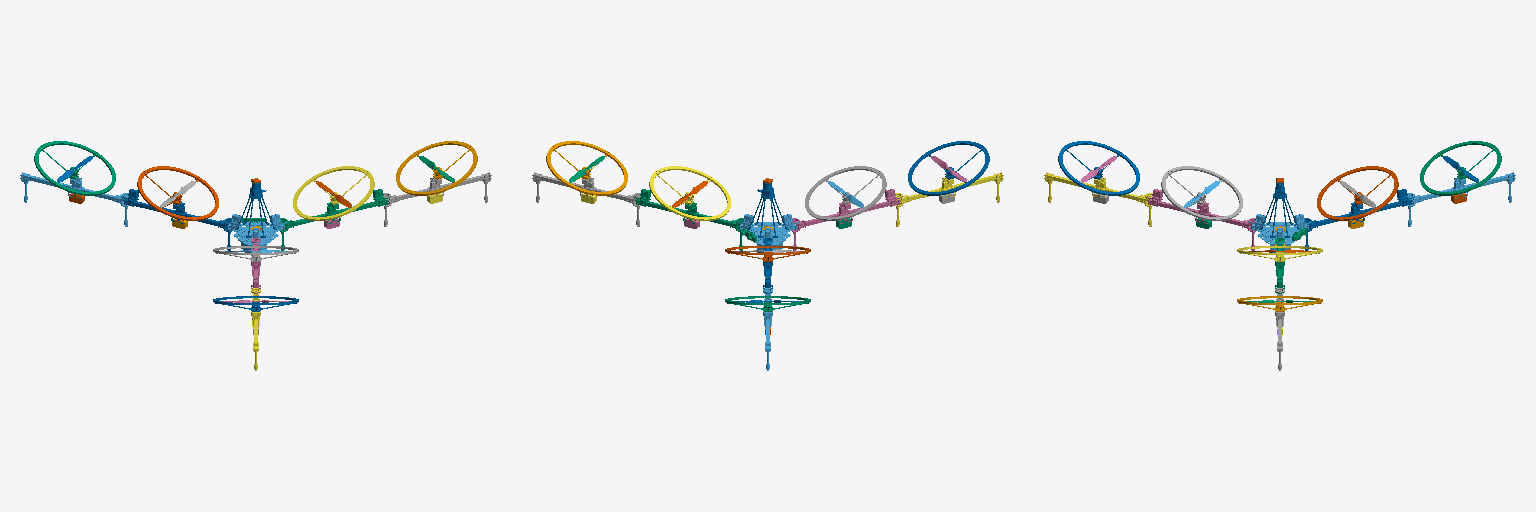
--- What the picture shows (computed from the rendered views, not written in the file) ---
Views: 3 orthographic renders of the robot side by side, from view 1: azimuth 30°, elevation 25°; view 2: azimuth 150°, elevation 25°; view 3: azimuth 270°, elevation 25°.
Model hydrus_xi with 38 links and 37 joints (6 revolute, 12 continuous, 19 fixed), rooted at root, posed every joint at zero.
Links seen in each view (by area): view 1: gimbal_link3, gimbal_link2, center_link, gimbal_link1, gimbal_link4, link1, link3, link4, link2, gimbal_link6, gimbal_link5; view 2: gimbal_link1, gimbal_link6, gimbal_link5, gimbal_link2, center_link, link5, link1, link2, link6, gimbal_link4, gimbal_link3; view 3: gimbal_link5, gimbal_link4, gimbal_link3, gimbal_link6, center_link, link5, link3, link6, link4, gimbal_link2, gimbal_link1.
Link boxes in pixels (bbox=[...]): gimbal_link3: bbox=[137, 166, 218, 220]; gimbal_link2: bbox=[396, 141, 477, 195]; center_link: bbox=[224, 214, 287, 243]; gimbal_link1: bbox=[293, 166, 374, 220]; gimbal_link4: bbox=[34, 141, 115, 195]; link1: bbox=[280, 189, 390, 250]; link3: bbox=[121, 189, 231, 250]; link4: bbox=[20, 172, 128, 226]; link2: bbox=[383, 172, 491, 226]; gimbal_link6: bbox=[213, 296, 298, 311]; gimbal_link5: bbox=[213, 246, 298, 261]; gimbal_link1: bbox=[649, 166, 730, 220]; gimbal_link6: bbox=[908, 141, 989, 195]; gimbal_link5: bbox=[805, 166, 886, 220]; gimbal_link2: bbox=[546, 141, 627, 195]; center_link: bbox=[736, 214, 799, 243]; link5: bbox=[792, 189, 902, 250]; link1: bbox=[633, 189, 743, 250]; link2: bbox=[532, 172, 640, 226]; link6: bbox=[895, 172, 1003, 226]; gimbal_link4: bbox=[725, 296, 810, 311]; gimbal_link3: bbox=[725, 246, 810, 261]; gimbal_link5: bbox=[1161, 166, 1242, 220]; gimbal_link4: bbox=[1420, 141, 1501, 195]; gimbal_link3: bbox=[1317, 166, 1398, 220]; gimbal_link6: bbox=[1058, 141, 1139, 195]; center_link: bbox=[1248, 214, 1311, 243]; link5: bbox=[1145, 189, 1255, 250]; link3: bbox=[1304, 189, 1414, 250]; link6: bbox=[1044, 172, 1152, 226]; link4: bbox=[1407, 172, 1515, 226]; gimbal_link2: bbox=[1237, 296, 1322, 311]; gimbal_link1: bbox=[1237, 246, 1322, 261].
Bounding box of the posed robot: 2.1 × 2.37 × 0.4399 m (x, y, z).
31 mesh visuals loaded from 13 distinct referenced files (13 binary STL).

robot.urdf — hydrus_xi:
<?xml version="1.0" ?>
<robot name="hydrus_xi">
  <baselink name="fc"/>
  <thrust_link name="thrust"/>
  <m_f_rate value="-0.0182"/>
    #### dummy root link for KDL ####
  <link name="root">
    <inertial>
      <origin rpy="0 0 0" xyz="0 0 0"/>
      <mass value="0.00001"/>
      <inertia ixx="0.000001" ixy="0.0" ixz="0.0" iyy="0.000001" iyz="0.0" izz="0.000001"/>
    </inertial>
  </link>
  <joint name="root_joint" type="fixed">
    <parent link="root"/>
    <child link="center_link"/>
    <origin rpy="0 0 0" xyz="0 0 0"/>
    <axis xyz="0 0 1"/>
  </joint>
    #### link ####
  <link name="center_link">
    <inertial>
      <origin rpy="0 0 0" xyz="-0.000001 0.000000 0.031426"/>
      <mass value="0.970304"/>
      <inertia ixx="0.011445" ixy="-0.000000" ixz="-0.000000" iyy="0.011444" iyz="0.000000" izz="0.021712"/>
    </inertial>
    <visual>
      <origin rpy="0 0 0" xyz="0 0 0"/>
      <geometry>
        <mesh filename="center_link.stl"/>
      </geometry>
    </visual>
    <collision name="center_link">
      <origin rpy="0 0 0" xyz="0 0 0"/>
      <geometry>
        <mesh filename="center_link.stl"/>
      </geometry>
    </collision>
  </link>
  <gazebo reference="center_link">
    <dampingFactor>0.00</dampingFactor>
  </gazebo>
    #### joints ####
    #### link joint ####
  <joint name="joint1" type="revolute">
    <limit effort="6.6" lower="-1.57" upper="1.57" velocity="3.0"/>
    <parent link="center_link"/>
    <child link="link1"/>
    <origin rpy="0 0 0" xyz="0.1555 0.0 0.015"/>
    <axis xyz="0 0 1"/>
    <dynamics damping="0.8" friction="0.0"/>
  </joint>
  <joint name="joint3" type="revolute">
    <limit effort="6.6" lower="-1.57" upper="1.57" velocity="3.0"/>
    <parent link="center_link"/>
    <child link="link3"/>
    <origin rpy="0 0 2.0943951023931953" xyz="-0.07775 0.13467 0.015"/>
    <axis xyz="0 0 1"/>
    <dynamics damping="0.8" friction="0.0"/>
  </joint>
  <joint name="joint5" type="revolute">
    <limit effort="6.6" lower="-1.57" upper="1.57" velocity="3.0"/>
    <parent link="center_link"/>
    <child link="link5"/>
    <origin rpy="0 0 4.1887902047863905" xyz="-0.07775 -0.13467 0.015"/>
    <axis xyz="0 0 1"/>
    <dynamics damping="0.8" friction="0.0"/>
  </joint>
    #### hardware interface ####
  <gazebo reference="linkcenter_link">
    <mu1>0.1</mu1>
    <mu2>0.1</mu2>
  </gazebo>
    #### link ####
  <link name="link1">
    <inertial>
      <origin rpy="0 0 0" xyz="0.313051 0.000071 0.011024"/>
      <mass value="0.535052"/>
      <inertia ixx="0.000808" ixy="0.000030" ixz="0.005073" iyy="0.014148" iyz="0.000002" izz="0.013428"/>
    </inertial>
    <visual>
      <origin rpy="0 0 3.141592653589793" xyz="0.6 0 0"/>
      <geometry>
        <mesh filename="middle_link.stl"/>
      </geometry>
    </visual>
    <collision name="link1">
      <origin rpy="0 0 3.141592653589793" xyz="0.6 0 0"/>
      <geometry>
        <mesh filename="middle_link.stl"/>
      </geometry>
    </collision>
  </link>
    #### link1 ####
  <gazebo reference="link1">
    <dampingFactor>0.00</dampingFactor>
  </gazebo>
    #### gimbal link ####
  <link name="gimbal_link1">
    <inertial>
      <origin rpy="0 0 0" xyz="-0.010664 0.000000 0.049923"/>
      <mass value="0.237140"/>
      <inertia ixx="0.004029" ixy="-0.000000" ixz="-0.001310" iyy="0.003369" iyz="0.000000" izz="0.006515"/>
    </inertial>
    <visual>
      <origin rpy="0 0 0" xyz="0 0 0"/>
      <geometry>
        <mesh filename="propeller_link.stl"/>
      </geometry>
    </visual>
    <collision name="gimbal_link1">
      <origin rpy="0 0 0" xyz="0 0 0"/>
      <geometry>
        <mesh filename="propeller_link.stl"/>
      </geometry>
    </collision>
  </link>
  <gazebo reference="gimbal_link1">
    <dampingFactor>0.00</dampingFactor>
  </gazebo>
    #### rotor parent link (virtual) ####
  <link name="rotor_parent1">
    <inertial>
      <origin rpy="0 0 0" xyz="0 0 0"/>
      <mass value="0.00001"/>
      <inertia ixx="0.000001" ixy="0.0" ixz="0.0" iyy="0.000001" iyz="0.0" izz="0.000001"/>
    </inertial>
  </link>
    #### thrust link (virtual) ####
  <link name="thrust1">
    <inertial>
      <origin rpy="0 0 0" xyz="0 0 0"/>
      <mass value="0.02"/>
      <inertia ixx="1.5841999999999998e-06" ixy="0.0" ixz="0.0" iyy="1.5841999999999998e-06" iyz="0.0" izz="3.1683999999999996e-06"/>
    </inertial>
    <visual>
      <origin rpy="0 0 0" xyz="0 0 0"/>
      <geometry>
        <mesh filename="T-motor-CF-14inch-CCW.stl"/>
      </geometry>
    </visual>
    <collision name="thrust1">
      <origin rpy="0 0 0" xyz="0 0 0"/>
      <geometry>
        <mesh filename="T-motor-CF-14inch-CCW.stl"/>
      </geometry>
    </collision>
  </link>
  <gazebo reference="thrust1">
    <dampingFactor>0.00</dampingFactor>
  </gazebo>
    #### joints ####
    #### link joint ####
  <joint name="joint2" type="revolute">
    <limit effort="6.6" lower="-1.5707963267948966" upper="1.5707963267948966" velocity="3.0"/>
    <parent link="link1"/>
    <child link="link2"/>
    <origin rpy="0 0 0" xyz="0.6 0 0"/>
    <axis xyz="0 0 1"/>
    <dynamics damping="0.8" friction="0.0"/>
  </joint>
    #### gimbal joint ####
  <joint name="gimbal1" type="continuous">
    <limit effort="3.1" lower="-18.84955592153876" upper="18.84955592153876" velocity="20.0"/>
    <parent link="link1"/>
    <child link="gimbal_link1"/>
    <origin rpy="0 0 3.141592653589793" xyz="0.2984 0 0.04867"/>
    <axis xyz="0 0 1"/>
    <dynamics damping="0.8" friction="0.0"/>
  </joint>
    #### rotor parent link joint (virtual) ####
  <joint name="rotor_parent_link_joint1" type="fixed">
    <parent link="gimbal_link1"/>
    <child link="rotor_parent1"/>
    <origin rpy="0 0.34906585039 0" xyz="0 0 0.06041"/>
    <axis xyz="0 0 1"/>
  </joint>
    #### rotor joint (virtual) ####
  <joint name="rotor1" type="continuous">
    <limit effort="100.0" lower="1" upper="35.5" velocity="0.5"/>
    <parent link="rotor_parent1"/>
    <child link="thrust1"/>
    <origin rpy="0 0 0" xyz="0 0 0"/>
    <axis xyz="0 0 1"/>
  </joint>
    #### battery ####
  <joint name="link12bat1" type="fixed">
    <parent link="link1"/>
    <child link="bat1"/>
    <origin rpy="0 0 1.5707963267948966" xyz="0.2867 0.0 -0.048"/>
  </joint>
  <link name="bat1">
    <inertial>
      <origin rpy="0 0 0" xyz="0 0 0"/>
      <mass value="0.193"/>
      <inertia ixx="0.00001" ixy="0.0" ixz="0.0" iyy="0.00001" iyz="0.0" izz="0.00002"/>
    </inertial>
    <visual>
      <geometry>
        <mesh filename="battery.stl"/>
      </geometry>
    </visual>
    <collision name="bat1">
      <geometry>
        <mesh filename="battery.stl"/>
      </geometry>
    </collision>
  </link>
    #### hardware interface ####
  <gazebo reference="link1">
    <mu1>0.1</mu1>
    <mu2>0.1</mu2>
  </gazebo>
    #### link ####
  <link name="link2">
    <inertial>
      <origin rpy="0 0 0" xyz="0.272827 0.000033 -0.006011"/>
      <mass value="0.455151"/>
      <inertia ixx="0.001020" ixy="0.000009" ixz="-0.002418" iyy="0.009477" iyz="0.000000" izz="0.008530"/>
    </inertial>
    <visual>
      <origin rpy="0 0 3.141592653589793" xyz="0.6 0 0"/>
      <geometry>
        <mesh filename="end_link1.stl"/>
      </geometry>
    </visual>
    <collision name="link2">
      <origin rpy="0 0 3.141592653589793" xyz="0.6 0 0"/>
      <geometry>
        <mesh filename="end_link1.stl"/>
      </geometry>
    </collision>
  </link>
    #### link2 ####
  <gazebo reference="link2">
    <dampingFactor>0.00</dampingFactor>
  </gazebo>
    #### gimbal link ####
  <link name="gimbal_link2">
    <inertial>
      <origin rpy="0 0 0" xyz="-0.010664 0.000000 0.049923"/>
      <mass value="0.237140"/>
      <inertia ixx="0.004029" ixy="-0.000000" ixz="-0.001310" iyy="0.003369" iyz="0.000000" izz="0.006515"/>
    </inertial>
    <visual>
      <origin rpy="0 0 0" xyz="0 0 0"/>
      <geometry>
        <mesh filename="propeller_link.stl"/>
      </geometry>
    </visual>
    <collision name="gimbal_link2">
      <origin rpy="0 0 0" xyz="0 0 0"/>
      <geometry>
        <mesh filename="propeller_link.stl"/>
      </geometry>
    </collision>
  </link>
  <gazebo reference="gimbal_link2">
    <dampingFactor>0.00</dampingFactor>
  </gazebo>
    #### rotor parent link (virtual) ####
  <link name="rotor_parent2">
    <inertial>
      <origin rpy="0 0 0" xyz="0 0 0"/>
      <mass value="0.00001"/>
      <inertia ixx="0.000001" ixy="0.0" ixz="0.0" iyy="0.000001" iyz="0.0" izz="0.000001"/>
    </inertial>
  </link>
    #### thrust link (virtual) ####
  <link name="thrust2">
    <inertial>
      <origin rpy="0 0 0" xyz="0 0 0"/>
      <mass value="0.02"/>
      <inertia ixx="1.5841999999999998e-06" ixy="0.0" ixz="0.0" iyy="1.5841999999999998e-06" iyz="0.0" izz="3.1683999999999996e-06"/>
    </inertial>
    <visual>
      <origin rpy="0 0 0" xyz="0 0 0"/>
      <geometry>
        <mesh filename="T-motor-CF-14inch-CW.stl"/>
      </geometry>
    </visual>
    <collision name="thrust2">
      <origin rpy="0 0 0" xyz="0 0 0"/>
      <geometry>
        <mesh filename="T-motor-CF-14inch-CW.stl"/>
      </geometry>
    </collision>
  </link>
  <gazebo reference="thrust2">
    <dampingFactor>0.00</dampingFactor>
  </gazebo>
    #### joints ####
    #### link joint ####
    #### gimbal joint ####
  <joint name="gimbal2" type="continuous">
    <limit effort="3.1" lower="-18.84955592153876" upper="18.84955592153876" velocity="20.0"/>
    <parent link="link2"/>
    <child link="gimbal_link2"/>
    <origin rpy="0 0 3.141592653589793" xyz="0.2984 0 0.04867"/>
    <axis xyz="0 0 1"/>
    <dynamics damping="0.8" friction="0.0"/>
  </joint>
    #### rotor parent link joint (virtual) ####
  <joint name="rotor_parent_link_joint2" type="fixed">
    <parent link="gimbal_link2"/>
    <child link="rotor_parent2"/>
    <origin rpy="0 0.34906585039 0" xyz="0 0 0.06041"/>
    <axis xyz="0 0 -1"/>
  </joint>
    #### rotor joint (virtual) ####
  <joint name="rotor2" type="continuous">
    <limit effort="100.0" lower="1" upper="35.5" velocity="0.5"/>
    <parent link="rotor_parent2"/>
    <child link="thrust2"/>
    <origin rpy="0 0 0" xyz="0 0 0"/>
    <axis xyz="0 0 -1"/>
  </joint>
    #### battery ####
  <joint name="link22bat2" type="fixed">
    <parent link="link2"/>
    <child link="bat2"/>
    <origin rpy="0 0 1.5707963267948966" xyz="0.2867 0.0 -0.048"/>
  </joint>
  <link name="bat2">
    <inertial>
      <origin rpy="0 0 0" xyz="0 0 0"/>
      <mass value="0.193"/>
      <inertia ixx="0.00001" ixy="0.0" ixz="0.0" iyy="0.00001" iyz="0.0" izz="0.00002"/>
    </inertial>
    <visual>
      <geometry>
        <mesh filename="battery.stl"/>
      </geometry>
    </visual>
    <collision name="bat2">
      <geometry>
        <mesh filename="battery.stl"/>
      </geometry>
    </collision>
  </link>
    #### hardware interface ####
  <gazebo reference="link2">
    <mu1>0.1</mu1>
    <mu2>0.1</mu2>
  </gazebo>
    #### link ####
  <link name="link3">
    <inertial>
      <origin rpy="0 0 0" xyz="0.313051 0.000071 0.011024"/>
      <mass value="0.535052"/>
      <inertia ixx="0.000808" ixy="0.000030" ixz="0.005073" iyy="0.014148" iyz="0.000002" izz="0.013428"/>
    </inertial>
    <visual>
      <origin rpy="0 0 3.141592653589793" xyz="0.6 0 0"/>
      <geometry>
        <mesh filename="middle_link.stl"/>
      </geometry>
    </visual>
    <collision name="link3">
      <origin rpy="0 0 3.141592653589793" xyz="0.6 0 0"/>
      <geometry>
        <mesh filename="middle_link.stl"/>
      </geometry>
    </collision>
  </link>
    #### link3 ####
  <gazebo reference="link3">
    <dampingFactor>0.00</dampingFactor>
  </gazebo>
    #### gimbal link ####
  <link name="gimbal_link3">
    <inertial>
      <origin rpy="0 0 0" xyz="-0.010664 0.000000 0.049923"/>
      <mass value="0.237140"/>
      <inertia ixx="0.004029" ixy="-0.000000" ixz="-0.001310" iyy="0.003369" iyz="0.000000" izz="0.006515"/>
    </inertial>
    <visual>
      <origin rpy="0 0 0" xyz="0 0 0"/>
      <geometry>
        <mesh filename="propeller_link.stl"/>
      </geometry>
    </visual>
    <collision name="gimbal_link3">
      <origin rpy="0 0 0" xyz="0 0 0"/>
      <geometry>
        <mesh filename="propeller_link.stl"/>
      </geometry>
    </collision>
  </link>
  <gazebo reference="gimbal_link3">
    <dampingFactor>0.00</dampingFactor>
  </gazebo>
    #### rotor parent link (virtual) ####
  <link name="rotor_parent3">
    <inertial>
      <origin rpy="0 0 0" xyz="0 0 0"/>
      <mass value="0.00001"/>
      <inertia ixx="0.000001" ixy="0.0" ixz="0.0" iyy="0.000001" iyz="0.0" izz="0.000001"/>
    </inertial>
  </link>
    #### thrust link (virtual) ####
  <link name="thrust3">
    <inertial>
      <origin rpy="0 0 0" xyz="0 0 0"/>
      <mass value="0.02"/>
      <inertia ixx="1.5841999999999998e-06" ixy="0.0" ixz="0.0" iyy="1.5841999999999998e-06" iyz="0.0" izz="3.1683999999999996e-06"/>
    </inertial>
    <visual>
      <origin rpy="0 0 0" xyz="0 0 0"/>
      <geometry>
        <mesh filename="T-motor-CF-14inch-CCW.stl"/>
      </geometry>
    </visual>
    <collision name="thrust3">
      <origin rpy="0 0 0" xyz="0 0 0"/>
      <geometry>
        <mesh filename="T-motor-CF-14inch-CCW.stl"/>
      </geometry>
    </collision>
  </link>
  <gazebo reference="thrust3">
    <dampingFactor>0.00</dampingFactor>
  </gazebo>
    #### joints ####
    #### link joint ####
  <joint name="joint4" type="revolute">
    <limit effort="6.6" lower="-1.5707963267948966" upper="1.5707963267948966" velocity="3.0"/>
    <parent link="link3"/>
    <child link="link4"/>
    <origin rpy="0 0 0" xyz="0.6 0 0"/>
    <axis xyz="0 0 1"/>
    <dynamics damping="0.8" friction="0.0"/>
  </joint>
    #### gimbal joint ####
  <joint name="gimbal3" type="continuous">
    <limit effort="3.1" lower="-18.84955592153876" upper="18.84955592153876" velocity="20.0"/>
    <parent link="link3"/>
    <child link="gimbal_link3"/>
    <origin rpy="0 0 3.141592653589793" xyz="0.2984 0 0.04867"/>
    <axis xyz="0 0 1"/>
    <dynamics damping="0.8" friction="0.0"/>
  </joint>
    #### rotor parent link joint (virtual) ####
  <joint name="rotor_parent_link_joint3" type="fixed">
    <parent link="gimbal_link3"/>
    <child link="rotor_parent3"/>
    <origin rpy="0 0.34906585039 0" xyz="0 0 0.06041"/>
    <axis xyz="0 0 1"/>
  </joint>
    #### rotor joint (virtual) ####
  <joint name="rotor3" type="continuous">
    <limit effort="100.0" lower="1" upper="35.5" velocity="0.5"/>
    <parent link="rotor_parent3"/>
    <child link="thrust3"/>
    <origin rpy="0 0 0" xyz="0 0 0"/>
    <axis xyz="0 0 1"/>
  </joint>
    #### battery ####
  <joint name="link32bat3" type="fixed">
    <parent link="link3"/>
    <child link="bat3"/>
    <origin rpy="0 0 1.5707963267948966" xyz="0.2867 0.0 -0.048"/>
  </joint>
  <link name="bat3">
    <inertial>
      <origin rpy="0 0 0" xyz="0 0 0"/>
      <mass value="0.193"/>
      <inertia ixx="0.00001" ixy="0.0" ixz="0.0" iyy="0.00001" iyz="0.0" izz="0.00002"/>
    </inertial>
    <visual>
      <geometry>
        <mesh filename="battery.stl"/>
      </geometry>
    </visual>
    <collision name="bat3">
      <geometry>
        <mesh filename="battery.stl"/>
      </geometry>
    </collision>
  </link>
    #### hardware interface ####
  <gazebo reference="link3">
    <mu1>0.1</mu1>
    <mu2>0.1</mu2>
  </gazebo>
    #### link ####
  <link name="link4">
    <inertial>
      <origin rpy="0 0 0" xyz="0.272827 0.000033 -0.006011"/>
      <mass value="0.455151"/>
      <inertia ixx="0.001020" ixy="0.000009" ixz="-0.002418" iyy="0.009477" iyz="0.000000" izz="0.008530"/>
    </inertial>
    <visual>
      <origin rpy="0 0 3.141592653589793" xyz="0.6 0 0"/>
      <geometry>
        <mesh filename="end_link1.stl"/>
      </geometry>
    </visual>
    <collision name="link4">
      <origin rpy="0 0 3.141592653589793" xyz="0.6 0 0"/>
      <geometry>
        <mesh filename="end_link1.stl"/>
      </geometry>
    </collision>
  </link>
    #### link4 ####
  <gazebo reference="link4">
    <dampingFactor>0.00</dampingFactor>
  </gazebo>
    #### gimbal link ####
  <link name="gimbal_link4">
    <inertial>
      <origin rpy="0 0 0" xyz="-0.010664 0.000000 0.049923"/>
      <mass value="0.237140"/>
      <inertia ixx="0.004029" ixy="-0.000000" ixz="-0.001310" iyy="0.003369" iyz="0.000000" izz="0.006515"/>
    </inertial>
    <visual>
      <origin rpy="0 0 0" xyz="0 0 0"/>
      <geometry>
        <mesh filename="propeller_link.stl"/>
      </geometry>
    </visual>
    <collision name="gimbal_link4">
      <origin rpy="0 0 0" xyz="0 0 0"/>
      <geometry>
        <mesh filename="propeller_link.stl"/>
      </geometry>
    </collision>
  </link>
  <gazebo reference="gimbal_link4">
    <dampingFactor>0.00</dampingFactor>
  </gazebo>
    #### rotor parent link (virtual) ####
  <link name="rotor_parent4">
    <inertial>
      <origin rpy="0 0 0" xyz="0 0 0"/>
      <mass value="0.00001"/>
      <inertia ixx="0.000001" ixy="0.0" ixz="0.0" iyy="0.000001" iyz="0.0" izz="0.000001"/>
    </inertial>
  </link>
    #### thrust link (virtual) ####
  <link name="thrust4">
    <inertial>
      <origin rpy="0 0 0" xyz="0 0 0"/>
      <mass value="0.02"/>
      <inertia ixx="1.5841999999999998e-06" ixy="0.0" ixz="0.0" iyy="1.5841999999999998e-06" iyz="0.0" izz="3.1683999999999996e-06"/>
    </inertial>
    <visual>
      <origin rpy="0 0 0" xyz="0 0 0"/>
      <geometry>
        <mesh filename="T-motor-CF-14inch-CW.stl"/>
      </geometry>
    </visual>
    <collision name="thrust4">
      <origin rpy="0 0 0" xyz="0 0 0"/>
      <geometry>
        <mesh filename="T-motor-CF-14inch-CW.stl"/>
      </geometry>
    </collision>
  </link>
  <gazebo reference="thrust4">
    <dampingFactor>0.00</dampingFactor>
  </gazebo>
    #### joints ####
    #### link joint ####
    #### gimbal joint ####
  <joint name="gimbal4" type="continuous">
    <limit effort="3.1" lower="-18.84955592153876" upper="18.84955592153876" velocity="20.0"/>
    <parent link="link4"/>
    <child link="gimbal_link4"/>
    <origin rpy="0 0 3.141592653589793" xyz="0.2984 0 0.04867"/>
    <axis xyz="0 0 1"/>
    <dynamics damping="0.8" friction="0.0"/>
  </joint>
    #### rotor parent link joint (virtual) ####
  <joint name="rotor_parent_link_joint4" type="fixed">
    <parent link="gimbal_link4"/>
    <child link="rotor_parent4"/>
    <origin rpy="0 0.34906585039 0" xyz="0 0 0.06041"/>
    <axis xyz="0 0 -1"/>
  </joint>
    #### rotor joint (virtual) ####
  <joint name="rotor4" type="continuous">
    <limit effort="100.0" lower="1" upper="35.5" velocity="0.5"/>
    <parent link="rotor_parent4"/>
    <child link="thrust4"/>
    <origin rpy="0 0 0" xyz="0 0 0"/>
    <axis xyz="0 0 -1"/>
  </joint>
    #### battery ####
  <joint name="link42bat4" type="fixed">
    <parent link="link4"/>
    <child link="bat4"/>
    <origin rpy="0 0 1.5707963267948966" xyz="0.2867 0.0 -0.048"/>
  </joint>
  <link name="bat4">
    <inertial>
      <origin rpy="0 0 0" xyz="0 0 0"/>
      <mass value="0.193"/>
      <inertia ixx="0.00001" ixy="0.0" ixz="0.0" iyy="0.00001" iyz="0.0" izz="0.00002"/>
    </inertial>
    <visual>
      <geometry>
        <mesh filename="battery.stl"/>
      </geometry>
    </visual>
    <collision name="bat4">
      <geometry>
        <mesh filename="battery.stl"/>
      </geometry>
    </collision>
  </link>
    #### hardware interface ####
  <gazebo reference="link4">
    <mu1>0.1</mu1>
    <mu2>0.1</mu2>
  </gazebo>
    #### link ####
  <link name="link5">
    <inertial>
      <origin rpy="0 0 0" xyz="0.313051 0.000071 0.011024"/>
      <mass value="0.535052"/>
      <inertia ixx="0.000808" ixy="0.000030" ixz="0.005073" iyy="0.014148" iyz="0.000002" izz="0.013428"/>
    </inertial>
    <visual>
      <origin rpy="0 0 3.141592653589793" xyz="0.6 0 0"/>
      <geometry>
        <mesh filename="middle_link.stl"/>
      </geometry>
    </visual>
    <collision name="link5">
      <origin rpy="0 0 3.141592653589793" xyz="0.6 0 0"/>
      <geometry>
        <mesh filename="middle_link.stl"/>
      </geometry>
    </collision>
  </link>
    #### link5 ####
  <gazebo reference="link5">
    <dampingFactor>0.00</dampingFactor>
  </gazebo>
    #### gimbal link ####
  <link name="gimbal_link5">
    <inertial>
      <origin rpy="0 0 0" xyz="-0.010664 0.000000 0.049923"/>
      <mass value="0.237140"/>
      <inertia ixx="0.004029" ixy="-0.000000" ixz="-0.001310" iyy="0.003369" iyz="0.000000" izz="0.006515"/>
    </inertial>
    <visual>
      <origin rpy="0 0 0" xyz="0 0 0"/>
      <geometry>
        <mesh filename="propeller_link.stl"/>
      </geometry>
    </visual>
    <collision name="gimbal_link5">
      <origin rpy="0 0 0" xyz="0 0 0"/>
      <geometry>
        <mesh filename="propeller_link.stl"/>
      </geometry>
    </collision>
  </link>
  <gazebo reference="gimbal_link5">
    <dampingFactor>0.00</dampingFactor>
  </gazebo>
    #### rotor parent link (virtual) ####
  <link name="rotor_parent5">
    <inertial>
      <origin rpy="0 0 0" xyz="0 0 0"/>
      <mass value="0.00001"/>
      <inertia ixx="0.000001" ixy="0.0" ixz="0.0" iyy="0.000001" iyz="0.0" izz="0.000001"/>
    </inertial>
  </link>
    #### thrust link (virtual) ####
  <link name="thrust5">
    <inertial>
      <origin rpy="0 0 0" xyz="0 0 0"/>
      <mass value="0.02"/>
      <inertia ixx="1.5841999999999998e-06" ixy="0.0" ixz="0.0" iyy="1.5841999999999998e-06" iyz="0.0" izz="3.1683999999999996e-06"/>
    </inertial>
    <visual>
      <origin rpy="0 0 0" xyz="0 0 0"/>
      <geometry>
        <mesh filename="T-motor-CF-14inch-CCW.stl"/>
      </geometry>
    </visual>
    <collision name="thrust5">
      <origin rpy="0 0 0" xyz="0 0 0"/>
      <geometry>
        <mesh filename="T-motor-CF-14inch-CCW.stl"/>
      </geometry>
    </collision>
  </link>
  <gazebo reference="thrust5">
    <dampingFactor>0.00</dampingFactor>
  </gazebo>
    #### joints ####
    #### link joint ####
  <joint name="joint6" type="revolute">
    <limit effort="6.6" lower="-1.5707963267948966" upper="1.5707963267948966" velocity="3.0"/>
    <parent link="link5"/>
    <child link="link6"/>
    <origin rpy="0 0 0" xyz="0.6 0 0"/>
    <axis xyz="0 0 1"/>
    <dynamics damping="0.8" friction="0.0"/>
  </joint>
    #### gimbal joint ####
  <joint name="gimbal5" type="continuous">
    <limit effort="3.1" lower="-18.84955592153876" upper="18.84955592153876" velocity="20.0"/>
    <parent link="link5"/>
    <child link="gimbal_link5"/>
    <origin rpy="0 0 3.141592653589793" xyz="0.2984 0 0.04867"/>
    <axis xyz="0 0 1"/>
    <dynamics damping="0.8" friction="0.0"/>
  </joint>
    #### rotor parent link joint (virtual) ####
  <joint name="rotor_parent_link_joint5" type="fixed">
    <parent link="gimbal_link5"/>
    <child link="rotor_parent5"/>
    <origin rpy="0 0.34906585039 0" xyz="0 0 0.06041"/>
    <axis xyz="0 0 1"/>
  </joint>
    #### rotor joint (virtual) ####
  <joint name="rotor5" type="continuous">
    <limit effort="100.0" lower="1" upper="35.5" velocity="0.5"/>
    <parent link="rotor_parent5"/>
    <child link="thrust5"/>
    <origin rpy="0 0 0" xyz="0 0 0"/>
    <axis xyz="0 0 1"/>
  </joint>
    #### battery ####
  <joint name="link52bat5" type="fixed">
    <parent link="link5"/>
    <child link="bat5"/>
    <origin rpy="0 0 1.5707963267948966" xyz="0.2867 0.0 -0.048"/>
  </joint>
  <link name="bat5">
    <inertial>
      <origin rpy="0 0 0" xyz="0 0 0"/>
      <mass value="0.193"/>
      <inertia ixx="0.00001" ixy="0.0" ixz="0.0" iyy="0.00001" iyz="0.0" izz="0.00002"/>
    </inertial>
    <visual>
      <geometry>
        <mesh filename="battery.stl"/>
      </geometry>
    </visual>
    <collision name="bat5">
      <geometry>
        <mesh filename="battery.stl"/>
      </geometry>
    </collision>
  </link>
    #### hardware interface ####
  <gazebo reference="link5">
    <mu1>0.1</mu1>
    <mu2>0.1</mu2>
  </gazebo>
    #### link ####
  <link name="link6">
    <inertial>
      <origin rpy="0 0 0" xyz="0.272827 0.000033 -0.006011"/>
      <mass value="0.455151"/>
      <inertia ixx="0.001020" ixy="0.000009" ixz="-0.002418" iyy="0.009477" iyz="0.000000" izz="0.008530"/>
    </inertial>
    <visual>
      <origin rpy="0 0 3.141592653589793" xyz="0.6 0 0"/>
      <geometry>
        <mesh filename="end_link1.stl"/>
      </geometry>
    </visual>
    <collision name="link6">
      <origin rpy="0 0 3.141592653589793" xyz="0.6 0 0"/>
      <geometry>
        <mesh filename="end_link1.stl"/>
      </geometry>
    </collision>
  </link>
    #### link6 ####
  <gazebo reference="link6">
    <dampingFactor>0.00</dampingFactor>
  </gazebo>
    #### gimbal link ####
  <link name="gimbal_link6">
    <inertial>
      <origin rpy="0 0 0" xyz="-0.010664 0.000000 0.049923"/>
      <mass value="0.237140"/>
      <inertia ixx="0.004029" ixy="-0.000000" ixz="-0.001310" iyy="0.003369" iyz="0.000000" izz="0.006515"/>
    </inertial>
    <visual>
      <origin rpy="0 0 0" xyz="0 0 0"/>
      <geometry>
        <mesh filename="propeller_link.stl"/>
      </geometry>
    </visual>
    <collision name="gimbal_link6">
      <origin rpy="0 0 0" xyz="0 0 0"/>
      <geometry>
        <mesh filename="propeller_link.stl"/>
      </geometry>
    </collision>
  </link>
  <gazebo reference="gimbal_link6">
    <dampingFactor>0.00</dampingFactor>
  </gazebo>
    #### rotor parent link (virtual) ####
  <link name="rotor_parent6">
    <inertial>
      <origin rpy="0 0 0" xyz="0 0 0"/>
      <mass value="0.00001"/>
      <inertia ixx="0.000001" ixy="0.0" ixz="0.0" iyy="0.000001" iyz="0.0" izz="0.000001"/>
    </inertial>
  </link>
    #### thrust link (virtual) ####
  <link name="thrust6">
    <inertial>
      <origin rpy="0 0 0" xyz="0 0 0"/>
      <mass value="0.02"/>
      <inertia ixx="1.5841999999999998e-06" ixy="0.0" ixz="0.0" iyy="1.5841999999999998e-06" iyz="0.0" izz="3.1683999999999996e-06"/>
    </inertial>
    <visual>
      <origin rpy="0 0 0" xyz="0 0 0"/>
      <geometry>
        <mesh filename="T-motor-CF-14inch-CW.stl"/>
      </geometry>
    </visual>
    <collision name="thrust6">
      <origin rpy="0 0 0" xyz="0 0 0"/>
      <geometry>
        <mesh filename="T-motor-CF-14inch-CW.stl"/>
      </geometry>
    </collision>
  </link>
  <gazebo reference="thrust6">
    <dampingFactor>0.00</dampingFactor>
  </gazebo>
    #### joints ####
    #### link joint ####
    #### gimbal joint ####
  <joint name="gimbal6" type="continuous">
    <limit effort="3.1" lower="-18.84955592153876" upper="18.84955592153876" velocity="20.0"/>
    <parent link="link6"/>
    <child link="gimbal_link6"/>
    <origin rpy="0 0 3.141592653589793" xyz="0.2984 0 0.04867"/>
    <axis xyz="0 0 1"/>
    <dynamics damping="0.8" friction="0.0"/>
  </joint>
    #### rotor parent link joint (virtual) ####
  <joint name="rotor_parent_link_joint6" type="fixed">
    <parent link="gimbal_link6"/>
    <child link="rotor_parent6"/>
    <origin rpy="0 0.34906585039 0" xyz="0 0 0.06041"/>
    <axis xyz="0 0 -1"/>
  </joint>
    #### rotor joint (virtual) ####
  <joint name="rotor6" type="continuous">
    <limit effort="100.0" lower="1" upper="35.5" velocity="0.5"/>
    <parent link="rotor_parent6"/>
    <child link="thrust6"/>
    <origin rpy="0 0 0" xyz="0 0 0"/>
    <axis xyz="0 0 -1"/>
  </joint>
    #### battery ####
  <joint name="link62bat6" type="fixed">
    <parent link="link6"/>
    <child link="bat6"/>
    <origin rpy="0 0 1.5707963267948966" xyz="0.2867 0.0 -0.048"/>
  </joint>
  <link name="bat6">
    <inertial>
      <origin rpy="0 0 0" xyz="0 0 0"/>
      <mass value="0.193"/>
      <inertia ixx="0.00001" ixy="0.0" ixz="0.0" iyy="0.00001" iyz="0.0" izz="0.00002"/>
    </inertial>
    <visual>
      <geometry>
        <mesh filename="battery.stl"/>
      </geometry>
    </visual>
    <collision name="bat6">
      <geometry>
        <mesh filename="battery.stl"/>
      </geometry>
    </collision>
  </link>
    #### hardware interface ####
  <gazebo reference="link6">
    <mu1>0.1</mu1>
    <mu2>0.1</mu2>
  </gazebo>
  #### flight controller ####
  <joint name="center_link2fc" type="fixed">
    <parent link="center_link"/>
    <child link="fc"/>
    <origin rpy="0 0 0" xyz="-0.0129 -0.0044 0.03933"/>
  </joint>
  <link name="fc">
    <inertial>
      <origin rpy="0 0 0" xyz="0.012999 0.004396 -0.004856"/>
      <mass value="0.009434"/>
      <inertia ixx="0.000004" ixy="0.000001" ixz="-0.000001" iyy="0.000004" iyz="-0.000000" izz="0.000008"/>
    </inertial>
    <visual>
      <geometry>
        <mesh filename="fc3.stl"/>
      </geometry>
    </visual>
    <collision name="fc">
      <geometry>
        <mesh filename="fc3.stl"/>
      </geometry>
    </collision>
  </link>
  <joint name="center_link2pc" type="fixed">
    <parent link="center_link"/>
    <child link="pc"/>
    <origin rpy="0 0 0" xyz="-0.01075 0.0005 -0.0775"/>
  </joint>
  <link name="pc">
    <inertial>
      <origin rpy="0 0 0" xyz="-0.000890 -0.000110 0.028700"/>
      <mass value="0.449000"/>
      <inertia ixx="-0.000452" ixy="0.000000" ixz="-0.000014" iyy="-0.000453" iyz="-0.000002" izz="-0.000000"/>
    </inertial>
    <visual>
      <geometry>
        <mesh filename="xavier_2.stl"/>
      </geometry>
    </visual>
    <collision name="pc">
      <geometry>
        <mesh filename="xavier_2.stl"/>
      </geometry>
    </collision>
  </link>
  <joint name="center_link2zed_camera_center" type="fixed">
    <parent link="center_link"/>
    <child link="zed_camera_center"/>
    <origin rpy="0 0 1.0471975511965976" xyz="0.05504 0.09534  0.029"/>
  </joint>
  <link name="zed_camera_center">
    <inertial>
      <origin rpy="0 0 0" xyz="0.000430 0.006110 0.000000"/>
      <mass value="0.090000"/>
      <inertia ixx="0.000117" ixy="0.000000" ixz="0.000000" iyy="0.000010" iyz="0.000000" izz="0.000117"/>
    </inertial>
    <visual>
      <geometry>
        <mesh filename="zed_mini.stl"/>
      </geometry>
    </visual>
    <collision name="zed_camera_center">
      <geometry>
        <mesh filename="zed_mini.stl"/>
      </geometry>
    </collision>
  </link>
  <joint name="center_link2leddarone" type="fixed">
    <parent link="center_link"/>
    <child link="leddarone"/>
    <origin rpy="0 3.141592653589793 -1.5707963267948966" xyz="0.082 0.0 -0.027"/>
  </joint>
  <link name="leddarone">
    <inertial>
      <origin rpy="0 0 0" xyz="0.000000 -0.009700 -0.004610"/>
      <mass value="0.028000"/>
      <inertia ixx="0.000007" ixy="0.000000" ixz="0.000000" iyy="0.000009" iyz="0.000001" izz="0.000007"/>
    </inertial>
    <visual>
      <geometry>
        <mesh filename="leddar_one.stl"/>
      </geometry>
    </visual>
    <collision name="leddarone">
      <geometry>
        <mesh filename="leddar_one.stl"/>
      </geometry>
    </collision>
  </link>
  <joint name="laser_joint" type="fixed">
    <origin rpy="0 0 3.141592653589793" xyz="0.0 0.0 0.2774"/>
    <parent link="center_link"/>
    <child link="laser_frame"/>
  </joint>
  <link name="laser_frame">
    <inertial>
      <origin rpy="0 0 0" xyz="-0.000570 0.000005 -0.064301"/>
      <mass value="0.2568"/>
      <inertia ixx="0.002067" ixy="-0.000000" ixz="0.000005" iyy="0.002077" iyz="-0.000000" izz="0.000470"/>
    </inertial>
    <visual>
      <origin rpy="0 0 0" xyz="0 0 0"/>
      <geometry>
        <mesh filename="ust20lx_with_mount.stl"/>
      </geometry>
    </visual>
    <collision name="laser_frame">
      <origin rpy="0 0 0" xyz="0 0 0"/>
      <geometry>
        <mesh filename="ust20lx_with_mount.stl"/>
      </geometry>
    </collision>
  </link>
  <gazebo reference="laser_frame">
    <sensor name="laser" type="ray">
      <always_on>true</always_on>
      <update_rate>40</update_rate>
      <pose>0 0 0 0 0 0</pose>
      <visualize>false</visualize>
      <ray>
        <scan>
          <horizontal>
            <samples>1081</samples>
            <resolution>1</resolution>
            <min_angle>-2.356194490192345</min_angle>
            <max_angle>2.356194490192345</max_angle>
          </horizontal>
        </scan>
        <range>
          <min>0.1</min>
          <max>20.0</max>
          <resolution>0.01</resolution>
        </range>
        <noise>
          <type>gaussian</type>
          <mean>0.0</mean>
          <stddev>0.004</stddev>
        </noise>
      </ray>
      <plugin filename="libgazebo_ros_laser.so" name="gazebo_ros_laser_controller">
        <topicName>scan</topicName>
        <frameName>laser_frame</frameName>
      </plugin>
    </sensor>
  </gazebo>
  <joint name="center_link2gps" type="fixed">
    <parent link="center_link"/>
    <child link="gps"/>
    <origin rpy="0 0 0" xyz="0.0 0.0 0.3"/>
  </joint>
  <link name="gps">
    <inertial>
      <origin rpy="0 0 0" xyz="0.0 0.0 0.0"/>
      <mass value="0.03"/>
      <inertia ixx="0.0" ixy="0.0" ixz="0.0" iyy="0.0" iyz="0.0" izz="0.0"/>
    </inertial>
    <visual>
      <geometry>
        <mesh filename="gps_m8nblox.stl"/>
      </geometry>
    </visual>
    <collision name="gps">
      <geometry>
        <mesh filename="gps_m8nblox.stl"/>
      </geometry>
    </collision>
  </link>
  <mujoco>
    <compiler balanceinertia="true"/>
    <option/>
  </mujoco>
</robot>
